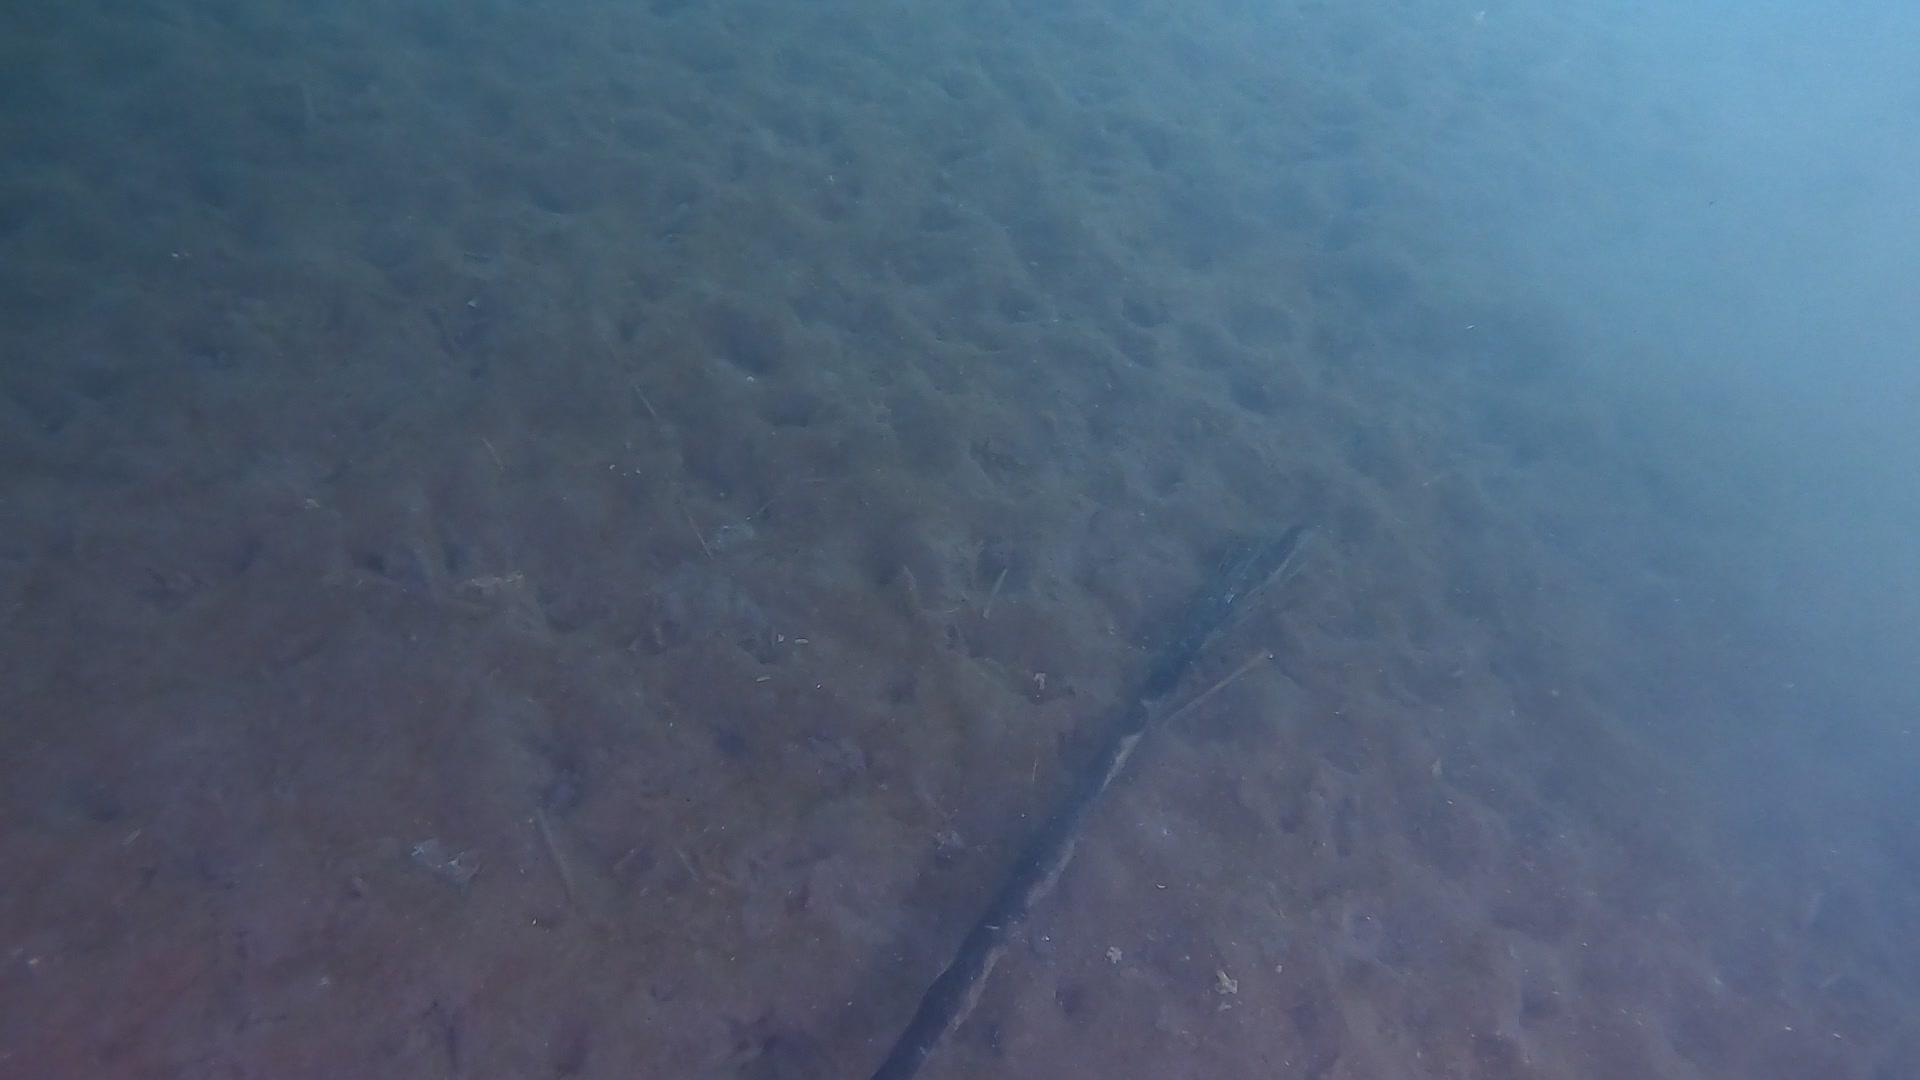wood: (869, 522, 1313, 1080)
